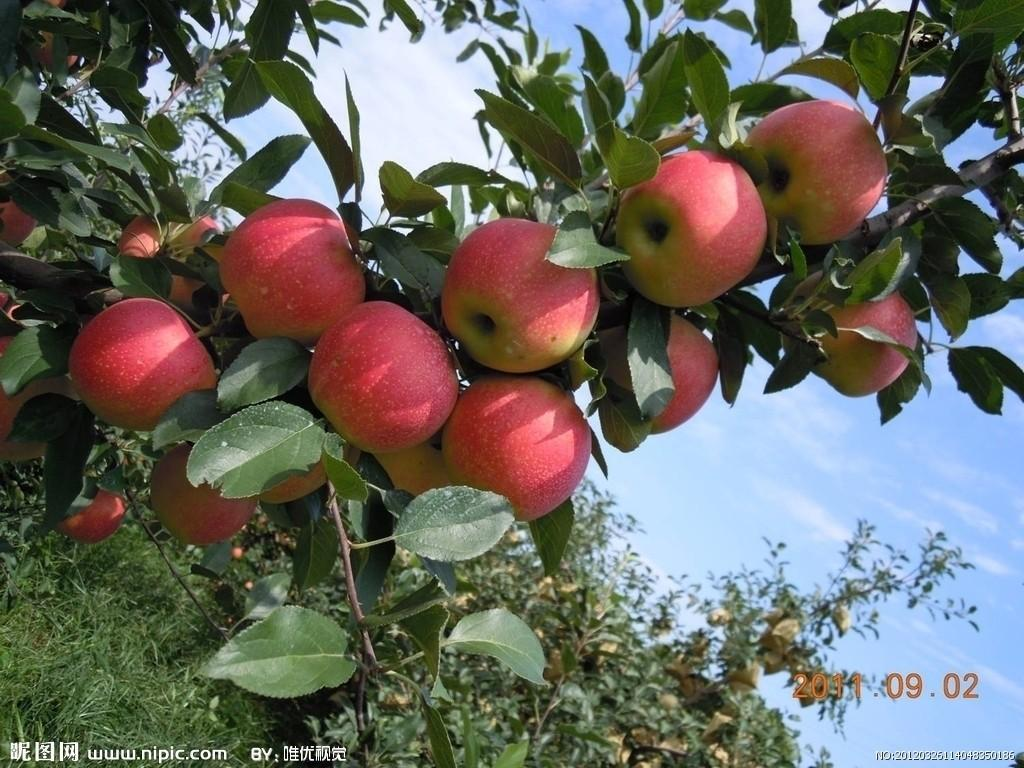apple: (611, 147, 772, 307), (439, 219, 595, 378), (306, 301, 459, 455), (736, 98, 890, 245), (444, 376, 589, 522), (218, 203, 363, 347), (70, 297, 215, 429), (807, 286, 922, 397), (151, 441, 251, 545)
